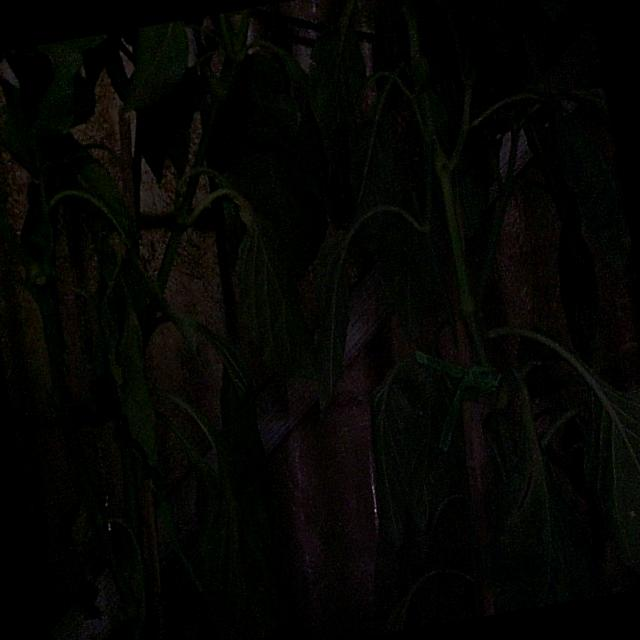Leaf: (485, 388, 601, 612), (236, 218, 315, 376), (586, 377, 639, 574), (125, 20, 188, 110)
